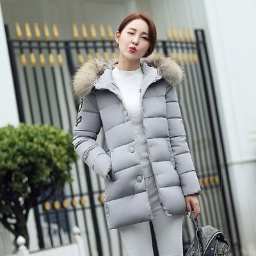face: (105, 11, 158, 67)
